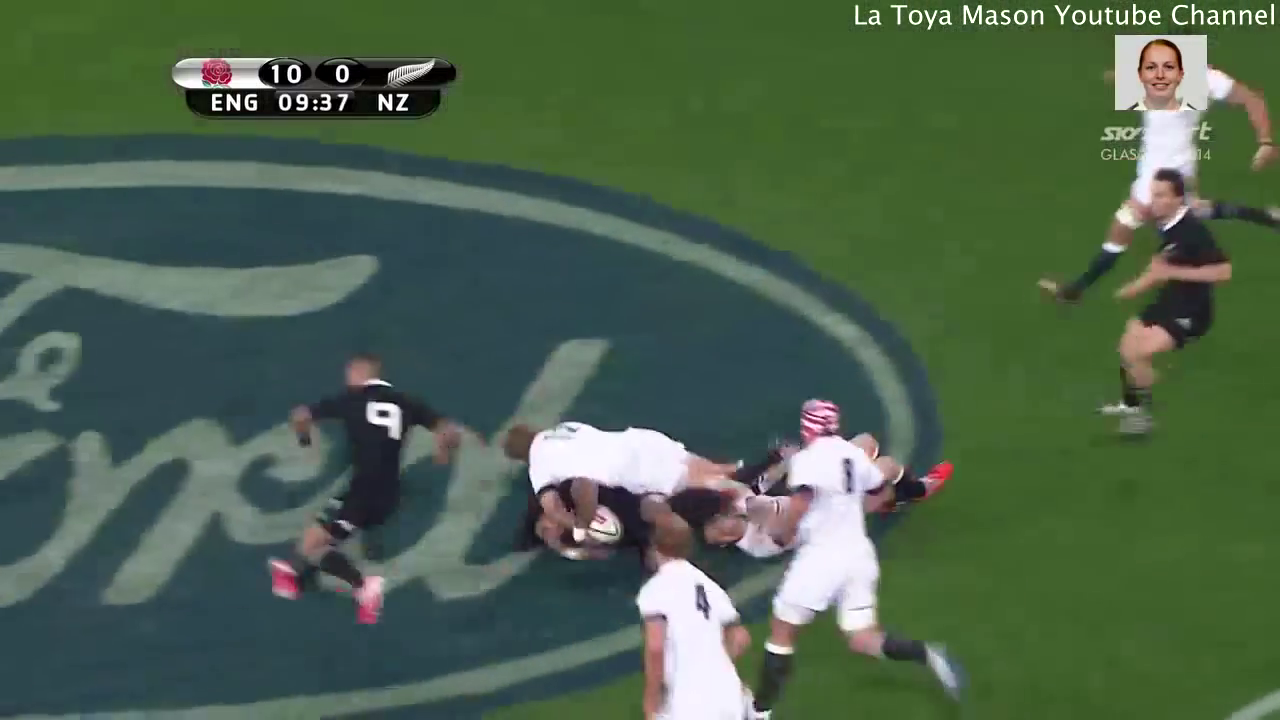ball: (564, 495, 645, 553)
player: (713, 384, 974, 720), (233, 340, 486, 656), (1021, 41, 1280, 322), (477, 403, 822, 524), (1086, 161, 1224, 439), (599, 516, 775, 720), (512, 476, 770, 566)
